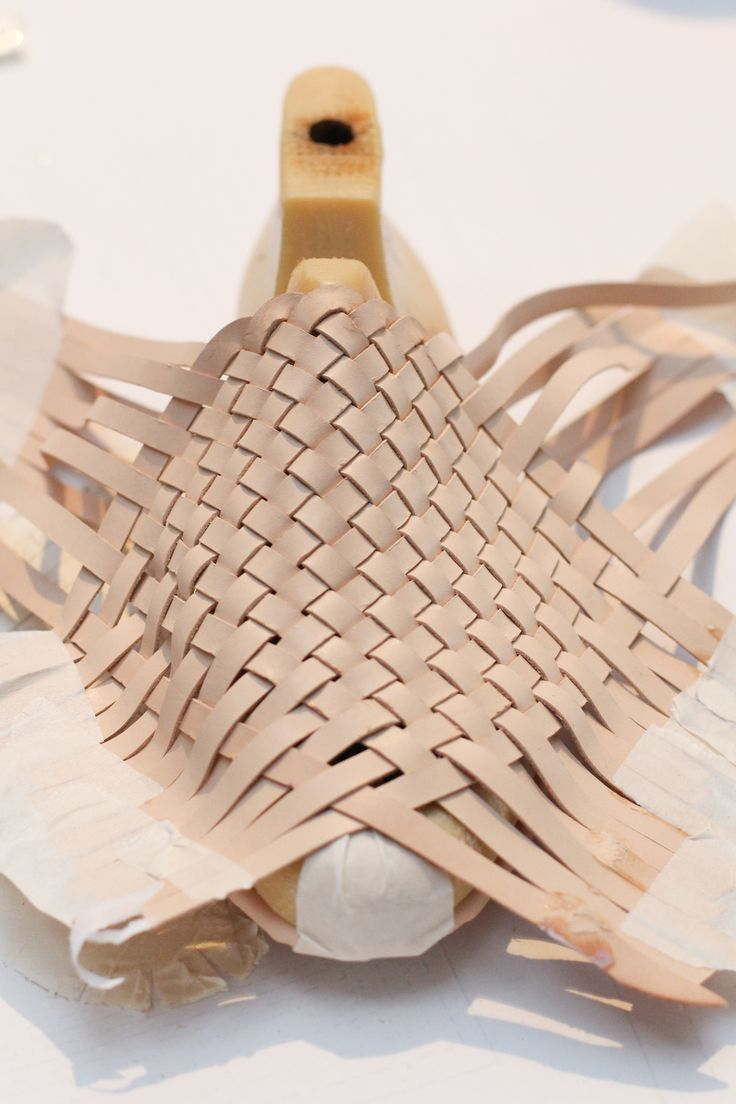cuero: (10, 288, 736, 1006)
